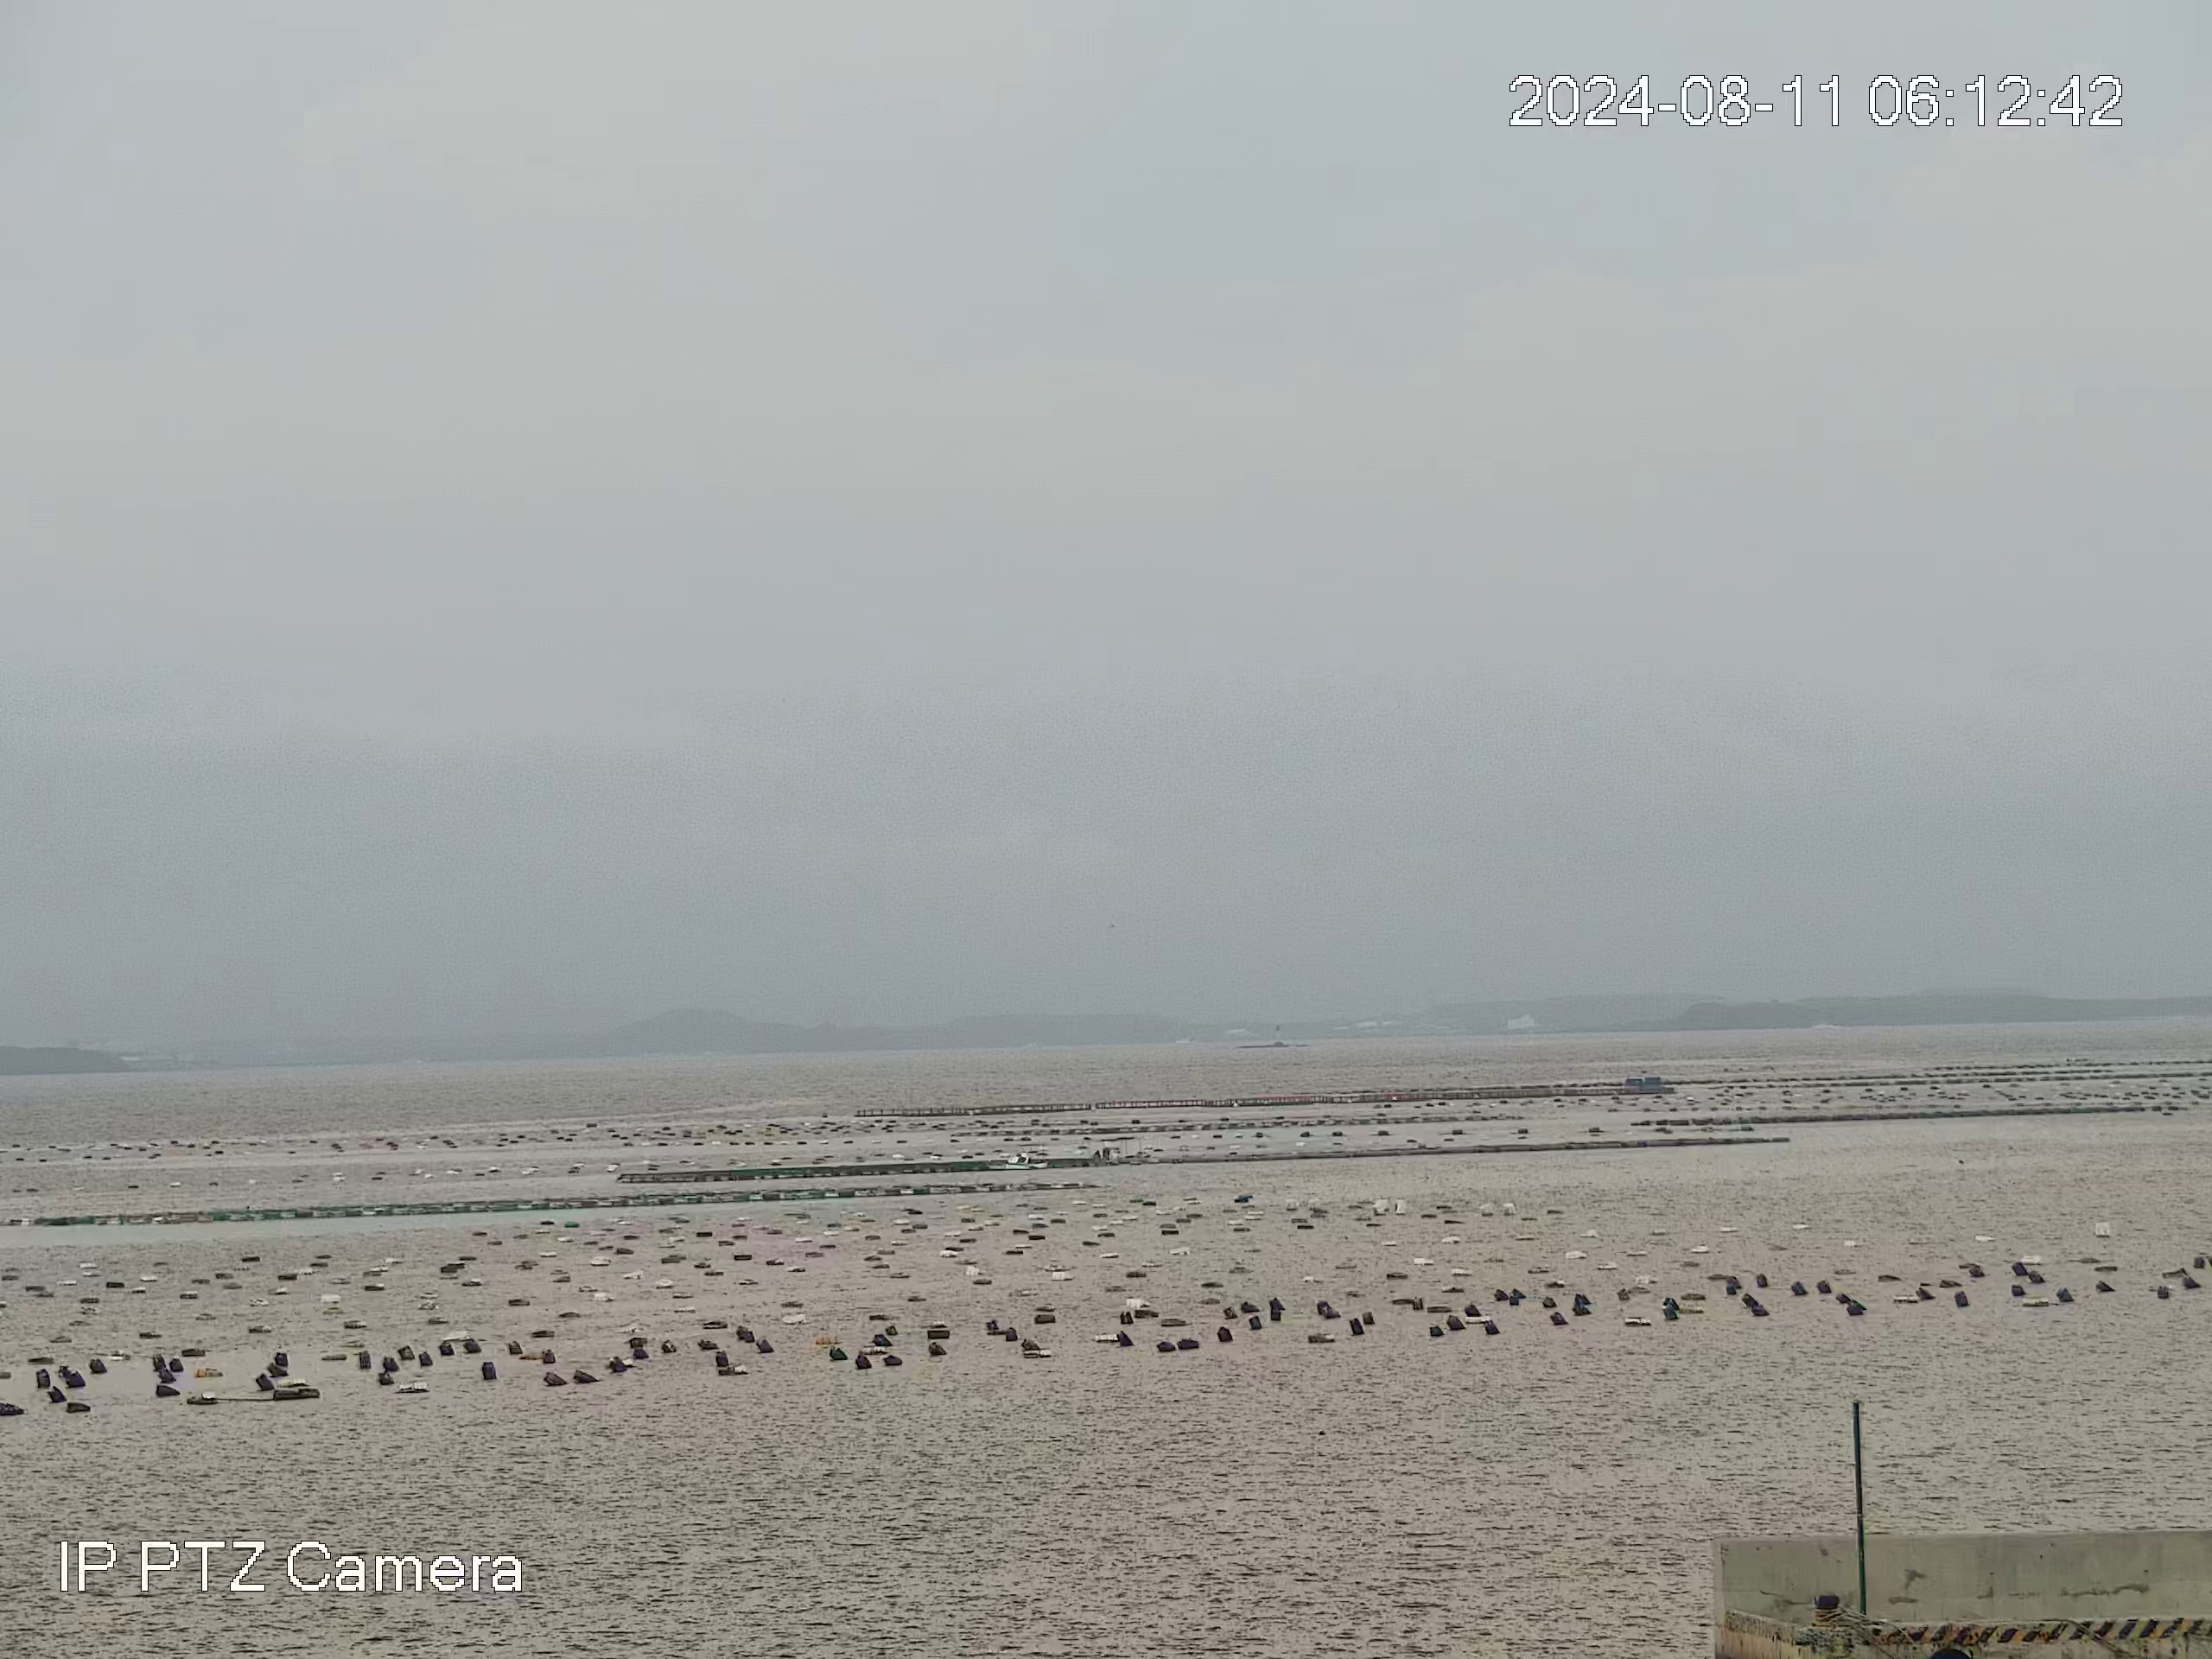boat: (979, 1150, 1052, 1171)
